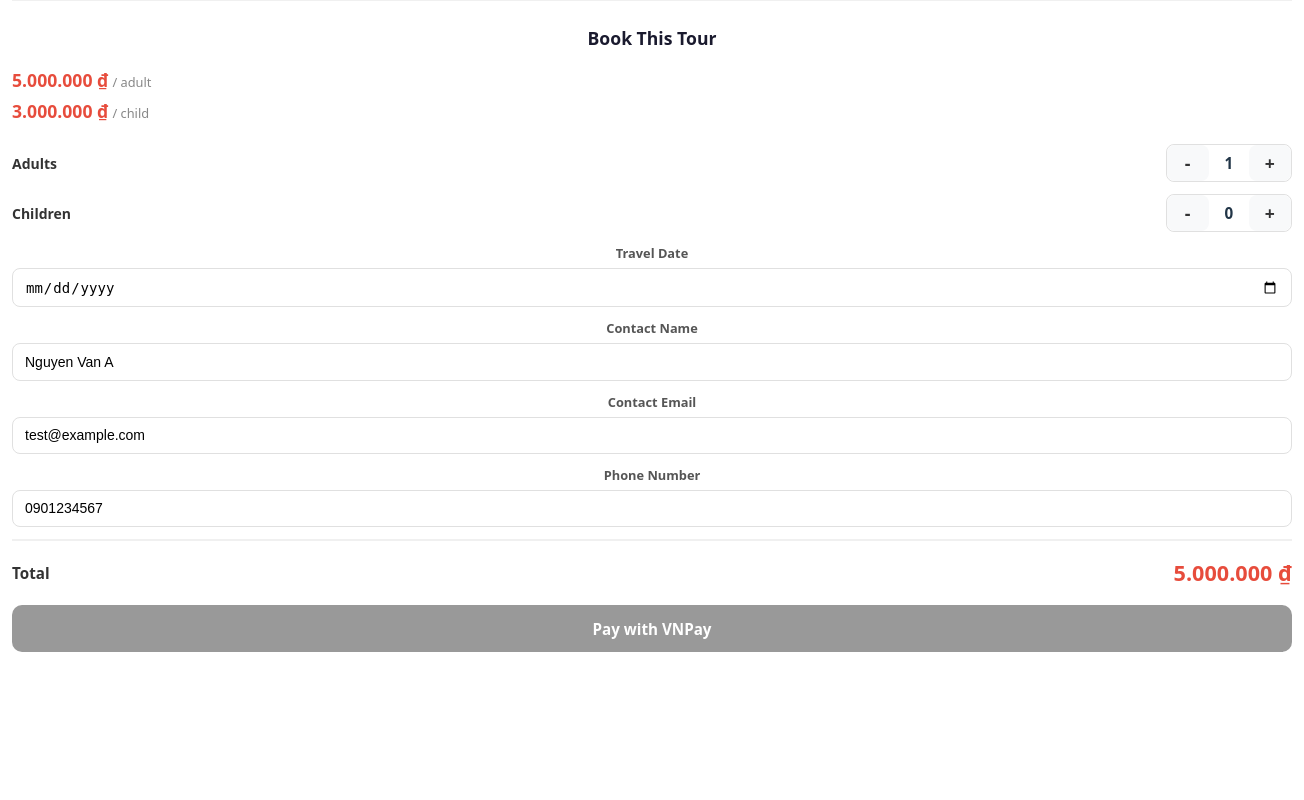
Test: BookingForm › total price calculation › should calculate total for adults + children
Click the button "+" in the row of "Children".
click(1270, 213)  # box [1249, 195, 1291, 231]
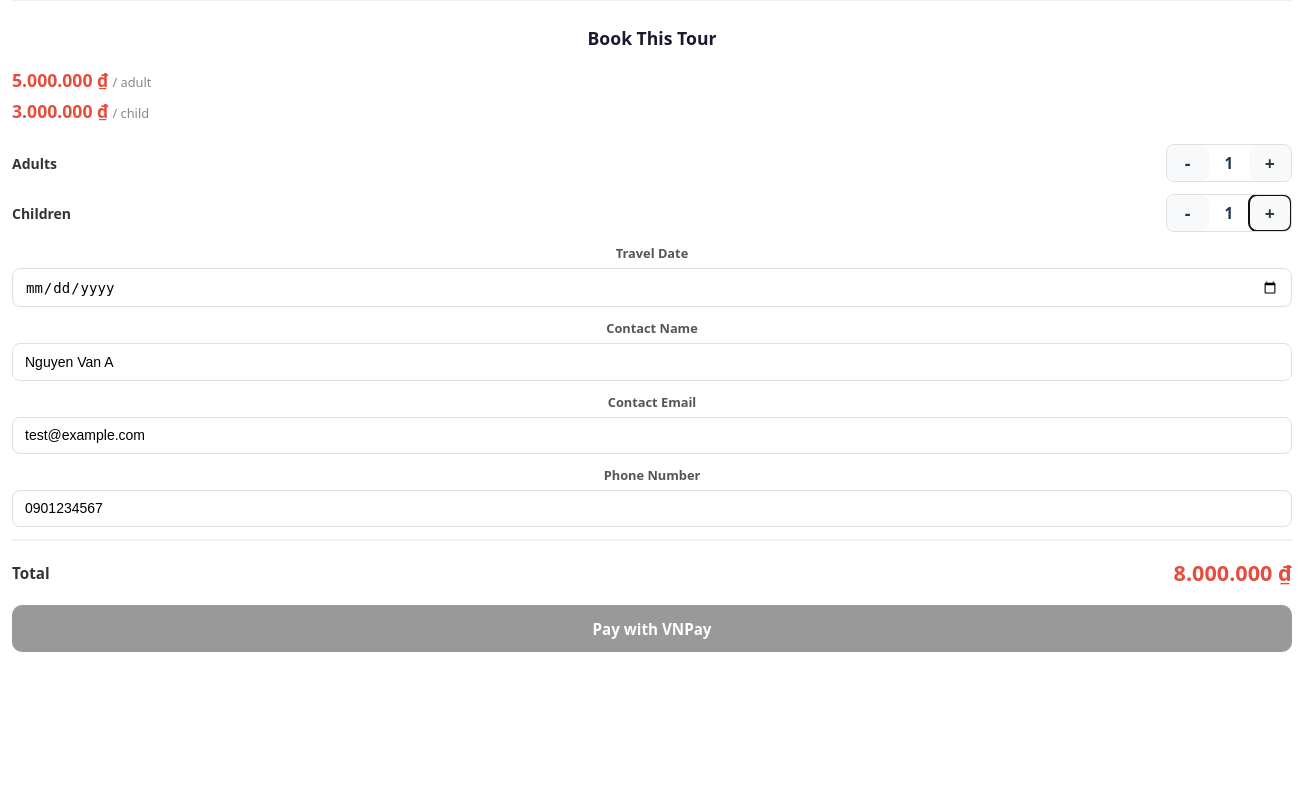
Click the button "+" in the row of "Children".
click(1270, 213)  # box [1249, 195, 1291, 231]
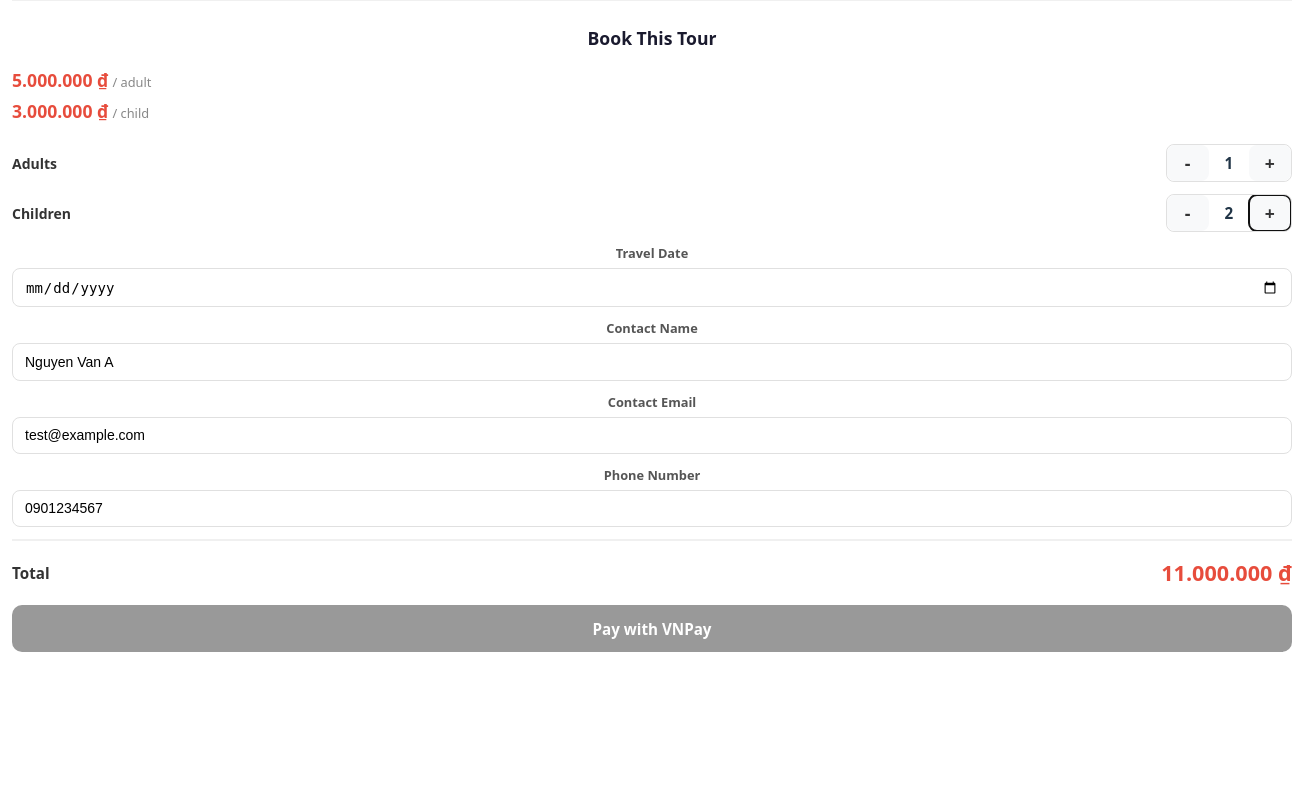
Expected: the text with class "booking-total-price" reads "11.000.000 ₫", [1161, 558, 1292, 587]
